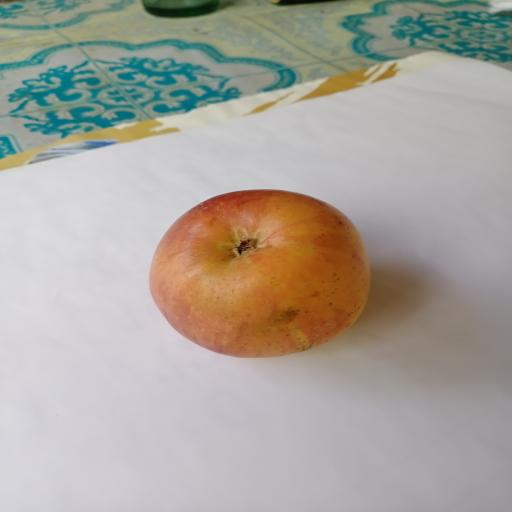apple-ripe: (140, 182, 374, 371)
